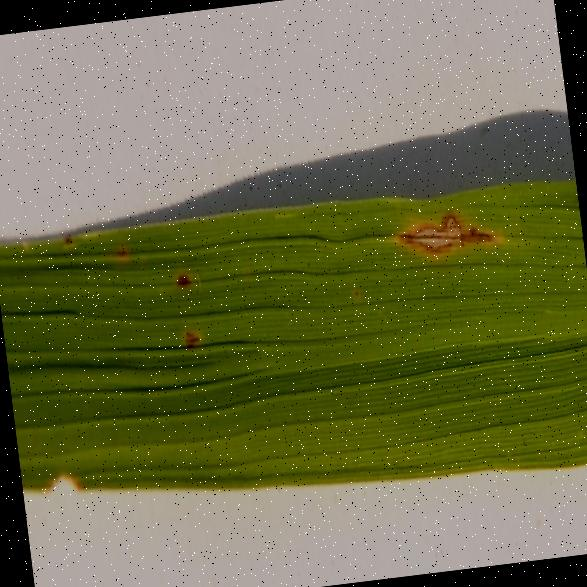Brown_Spot: (386, 165, 531, 283), (159, 239, 212, 316), (171, 308, 210, 383)
